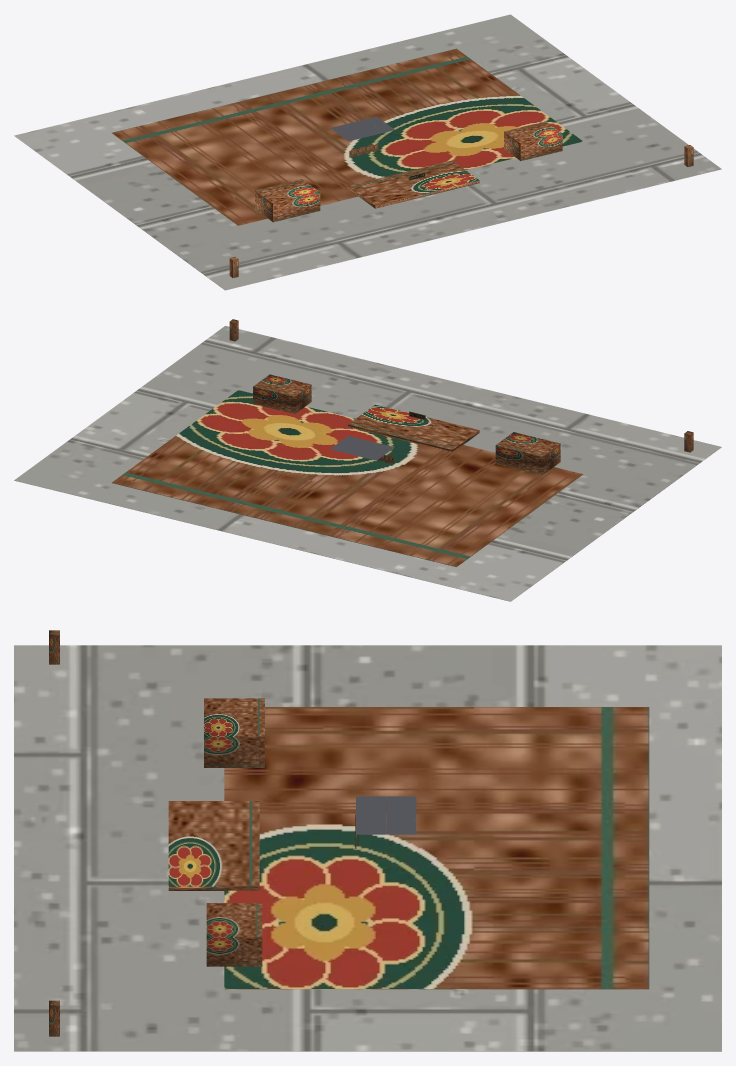
The picture shows the model from 3 angles, top to bottom: view 1: azimuth 30°, elevation 25°; view 2: azimuth 150°, elevation 25°; view 3: azimuth 270°, elevation 25°; orthographic projection. The views are drawn at different scales.
Visible parts, largest first — view 1: 11710_01_05549_004_01_L2__base, 11710_01_05549_004_02_L2__body, 11710_01_05549_004_03_L2__roof; view 2: 11710_01_05549_004_01_L2__base, 11710_01_05549_004_02_L2__body, 11710_01_05549_004_03_L2__roof; view 3: 11710_01_05549_004_01_L2__base, 11710_01_05549_004_02_L2__body, 11710_01_05549_004_03_L2__roof, 11710_01_05549_004_06_L2__green.
Boxes of the visible parts, x1,y1,x2,y2 form: 11710_01_05549_004_01_L2__base: (14, 14, 721, 290); 11710_01_05549_004_02_L2__body: (112, 48, 582, 225); 11710_01_05549_004_03_L2__roof: (330, 116, 394, 140); 11710_01_05549_004_01_L2__base: (14, 326, 721, 601); 11710_01_05549_004_02_L2__body: (112, 374, 583, 566); 11710_01_05549_004_03_L2__roof: (330, 436, 394, 460); 11710_01_05549_004_01_L2__base: (14, 645, 721, 1051); 11710_01_05549_004_02_L2__body: (168, 698, 649, 989); 11710_01_05549_004_03_L2__roof: (356, 796, 416, 834); 11710_01_05549_004_06_L2__green: (49, 630, 59, 1036).
Size of the model in its own units: 190 by 7.22 by 140.
5 materials, 5 textured.
